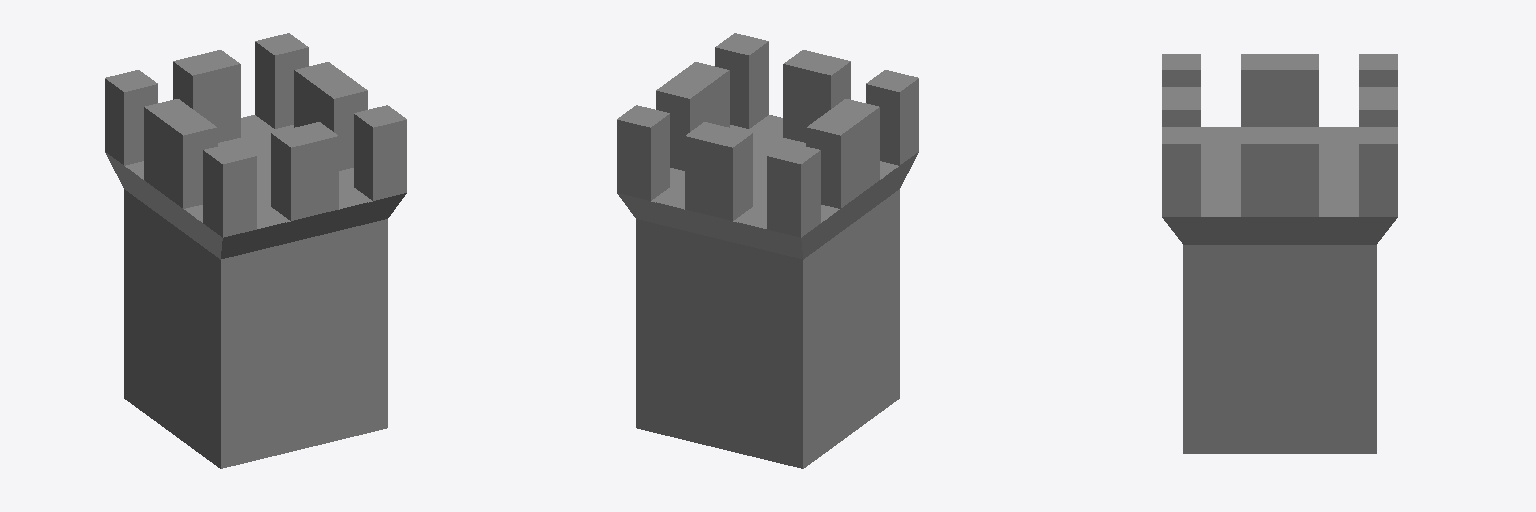
Rendered from tower.obj.
3 renders of one model, left to right at view 1: azimuth 30°, elevation 25°; view 2: azimuth 150°, elevation 25°; view 3: azimuth 270°, elevation 25°, orthographic.
Visible parts, largest first — view 1: Box001; view 2: Box001; view 3: Box001.
Boxes of the visible parts, box(x1,y1,x2,y2) form: Box001: box(105, 33, 406, 468); Box001: box(617, 33, 918, 468); Box001: box(1162, 54, 1397, 453).
Bounding box in the file's own units: 110 × 180 × 122.